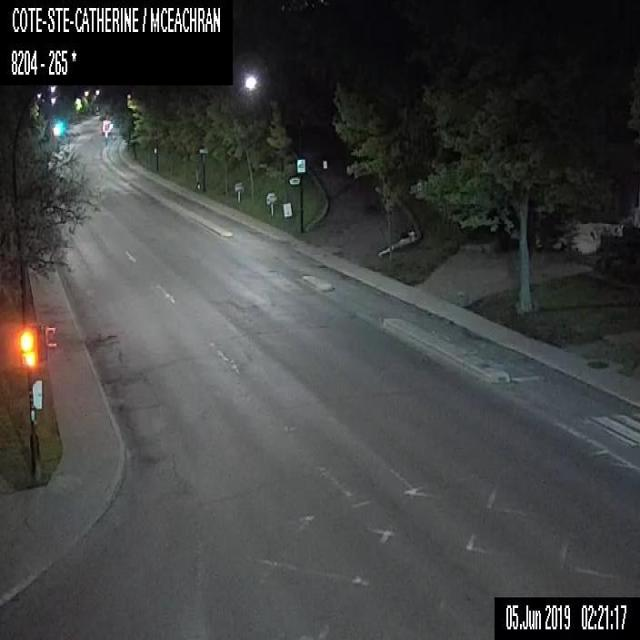vehicle: (101, 119, 111, 134)
